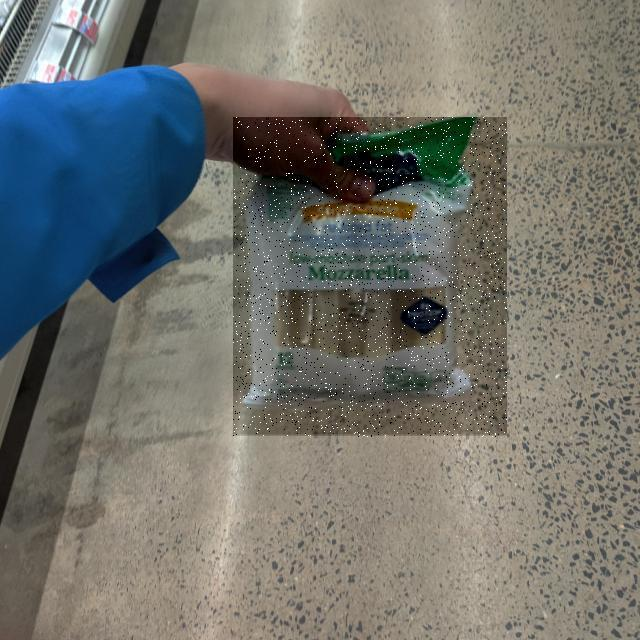cheese: (0, 219, 487, 640)
